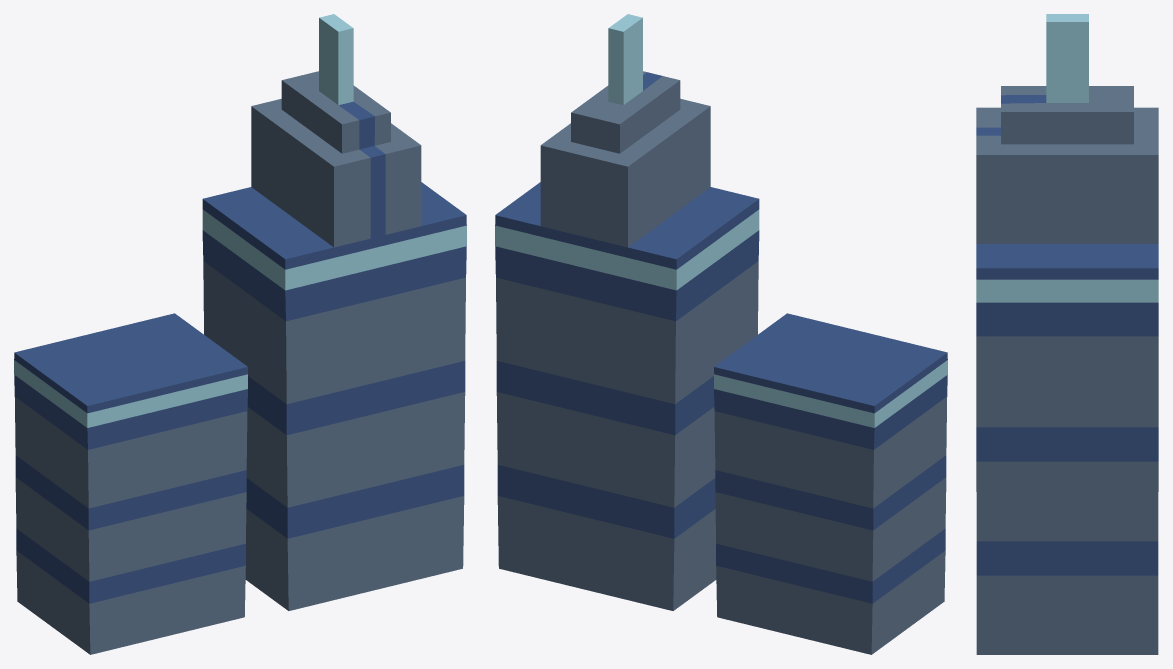
Rendered from xBusinessCenter.fbx.
3 views of the same model, side by side, from view 1: azimuth 30°, elevation 25°; view 2: azimuth 150°, elevation 25°; view 3: azimuth 270°, elevation 25° (orthographic). The views are drawn at different scales.
Visible parts, largest first — view 1: Cube.013, Cube.006; view 2: Cube.013, Cube.006; view 3: Cube.013.
Boxes of the visible parts, x1,y1,x2,y2 form: Cube.013: [202, 14, 466, 610]; Cube.006: [14, 313, 247, 654]; Cube.013: [495, 14, 759, 610]; Cube.006: [714, 313, 947, 654]; Cube.013: [976, 14, 1158, 654].
Bounding box in the file's own units: 5337 × 7303 × 2043.
